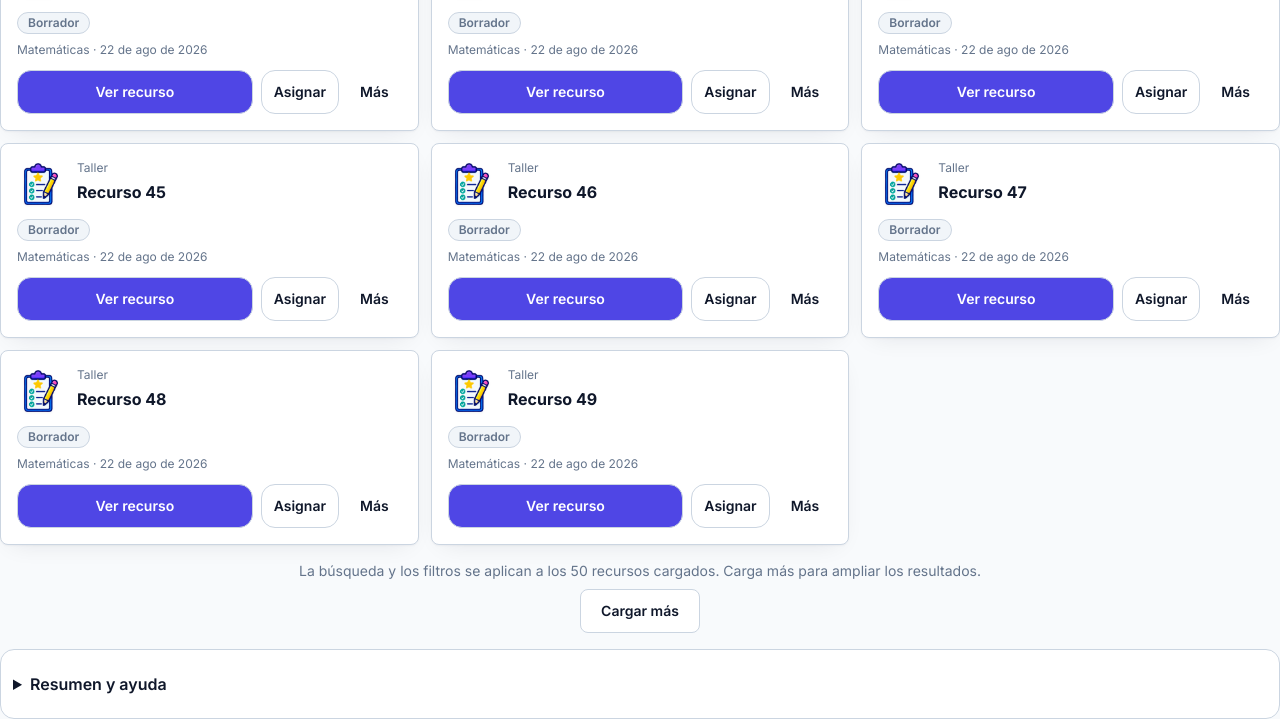
Test: resource library lifecycle › loads additional pages only when requested and identifies partial search
The image size is (1280, 719).
(page scrolled)
Expected: the link "Recurso 49" is shown, [508,389,597,409]
Expected: the text "La búsqueda y los filtros se aplican a los 50 recursos cargados" is shown, [299,562,981,579]
Click the button "Cargar más".
click(640, 611)  # box [580,589,700,633]
(page scrolled)
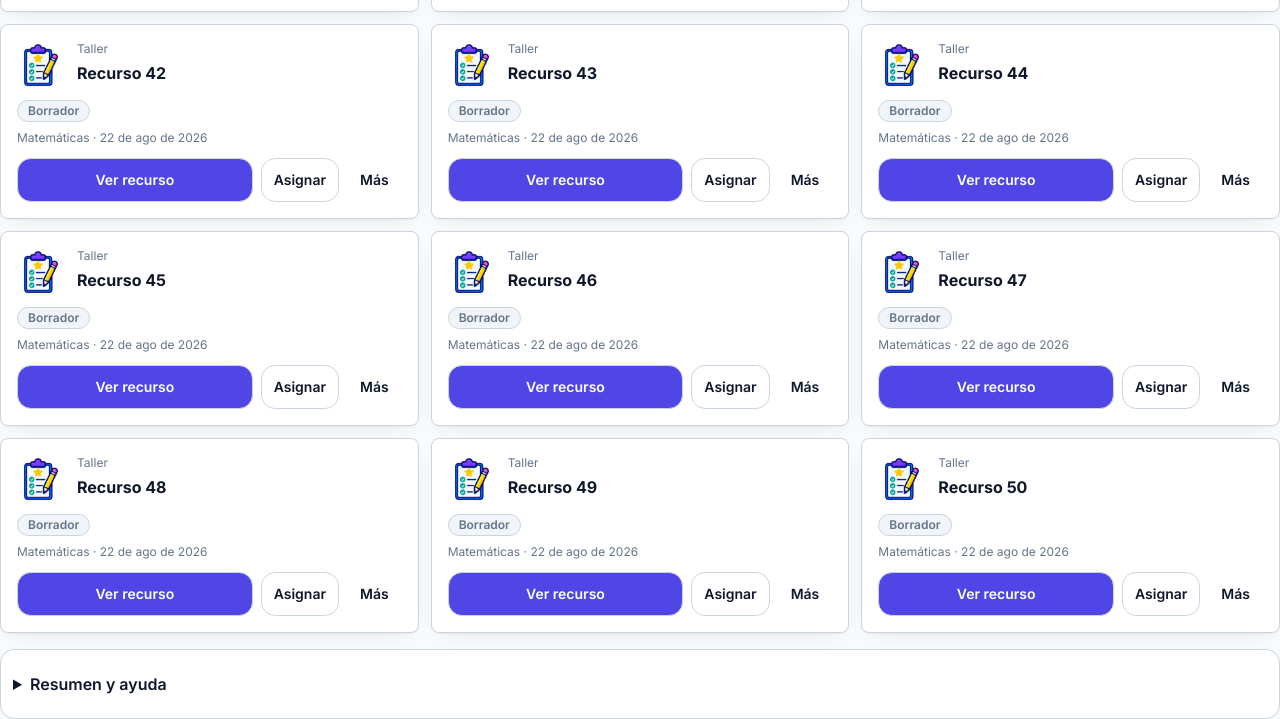
Now the link "Recurso 50" is shown, box [938,477,1027,497]
